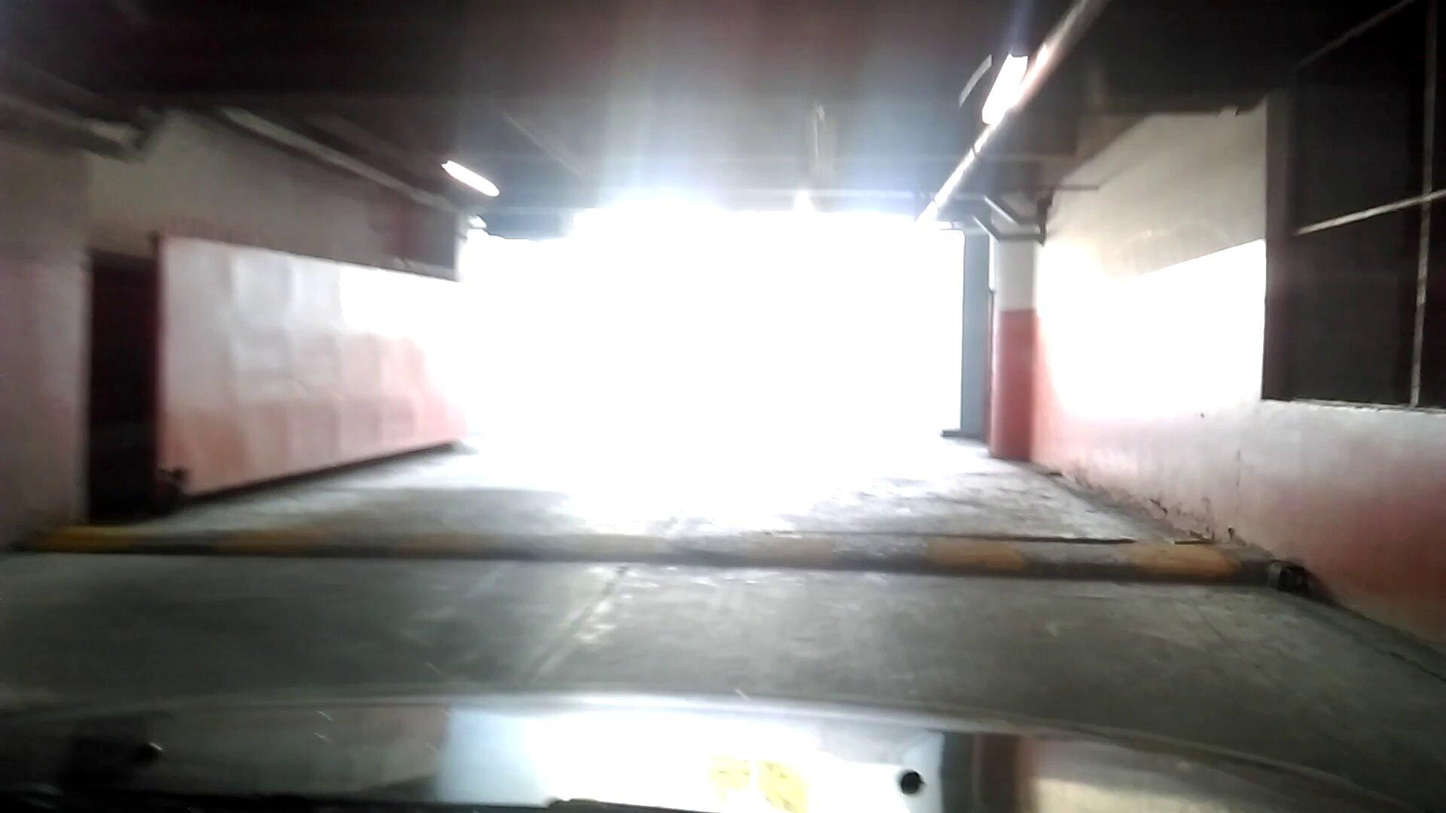Bump: (58, 527, 1295, 583)
